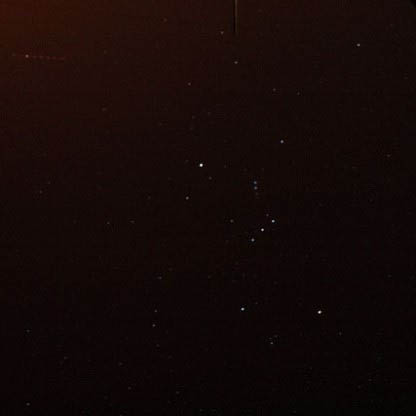Orion: (308, 299, 328, 325), (242, 234, 261, 252), (191, 154, 210, 171), (273, 133, 288, 153), (250, 222, 266, 240), (262, 215, 284, 228), (235, 301, 248, 316)
